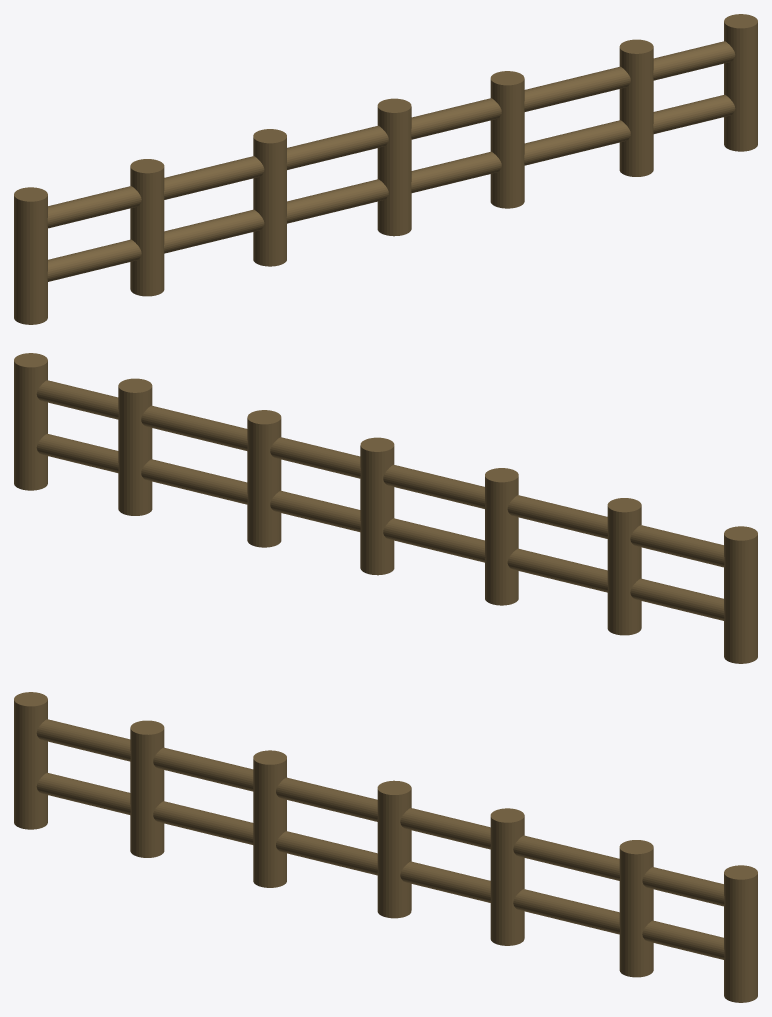
Rendered from fence_long_obstacle.fbx.
3 renders of one model, top to bottom at view 1: azimuth 30°, elevation 25°; view 2: azimuth 150°, elevation 25°; view 3: azimuth 330°, elevation 25°, orthographic.
Visible parts, largest first — view 1: Cylinder, Cylinder.025, Cylinder.014, Cylinder.031, Cylinder.001, Cylinder.032, Cylinder.008, Cylinder.029, Cylinder.030, Cylinder.016, Cylinder.015, Cylinder.010 (+7 smaller); view 2: Cylinder, Cylinder.025, Cylinder.014, Cylinder.031, Cylinder.001, Cylinder.032, Cylinder.008, Cylinder.029, Cylinder.030, Cylinder.016, Cylinder.015, Cylinder.010 (+7 smaller); view 3: Cylinder.032, Cylinder.001, Cylinder.014, Cylinder.025, Cylinder.031, Cylinder.008, Cylinder, Cylinder.030, Cylinder.029, Cylinder.015, Cylinder.016, Cylinder.009 (+7 smaller).
Boxes of the visible parts, bbox=[...] form: Cylinder: bbox=[14, 187, 47, 324]; Cylinder.025: bbox=[490, 71, 524, 208]; Cylinder.014: bbox=[377, 98, 411, 236]; Cylinder.031: bbox=[619, 39, 653, 176]; Cylinder.001: bbox=[130, 159, 164, 296]; Cylinder.032: bbox=[724, 14, 757, 151]; Cylinder.008: bbox=[253, 129, 286, 266]; Cylinder.029: bbox=[524, 120, 630, 165]; Cylinder.030: bbox=[524, 66, 630, 111]; Cylinder.016: bbox=[286, 179, 388, 223]; Cylinder.015: bbox=[286, 125, 388, 169]; Cylinder.010: bbox=[164, 209, 264, 253]; Cylinder: bbox=[724, 526, 757, 663]; Cylinder.025: bbox=[247, 410, 281, 547]; Cylinder.014: bbox=[360, 437, 394, 575]; Cylinder.031: bbox=[118, 378, 152, 515]; Cylinder.001: bbox=[607, 498, 641, 635]; Cylinder.032: bbox=[14, 353, 47, 490]; Cylinder.008: bbox=[485, 468, 518, 605]; Cylinder.029: bbox=[141, 459, 247, 504]; Cylinder.030: bbox=[141, 405, 247, 450]; Cylinder.016: bbox=[383, 518, 485, 562]; Cylinder.015: bbox=[383, 464, 485, 508]; Cylinder.010: bbox=[507, 548, 607, 592]; Cylinder.032: bbox=[724, 865, 757, 1002]; Cylinder.001: bbox=[130, 720, 164, 857]; Cylinder.014: bbox=[377, 780, 411, 918]; Cylinder.025: bbox=[490, 808, 524, 945]; Cylinder.031: bbox=[619, 840, 653, 977]; Cylinder.008: bbox=[253, 750, 286, 887]; Cylinder: bbox=[14, 692, 47, 829]; Cylinder.030: bbox=[513, 835, 619, 880]; Cylinder.029: bbox=[513, 889, 619, 934]; Cylinder.015: bbox=[276, 777, 377, 821]; Cylinder.016: bbox=[276, 831, 377, 875]; Cylinder.009: bbox=[153, 747, 253, 791].
Bounding box in the file's own units: 1005 × 160 × 40.
